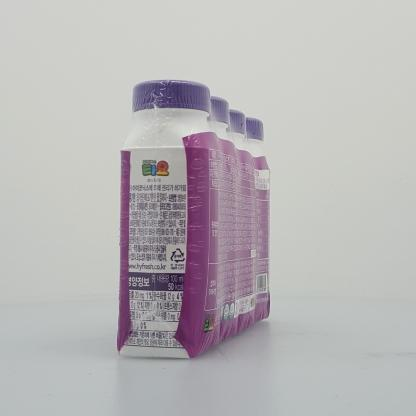-------------400ML: (117, 80, 270, 358)
